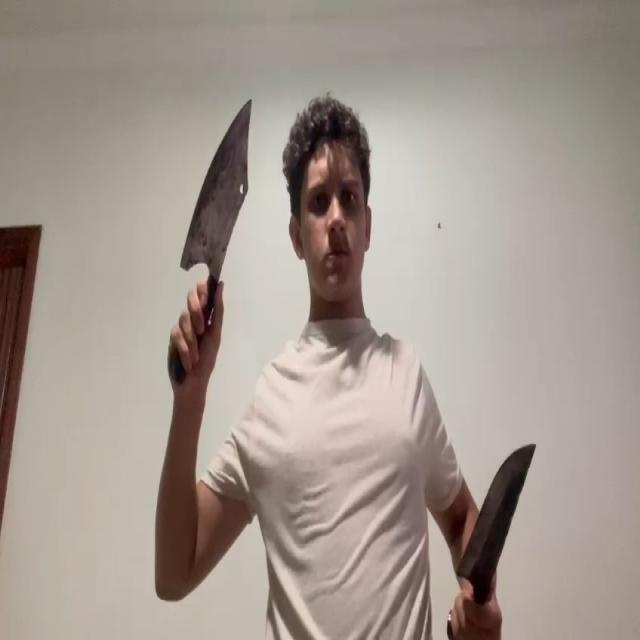knife: (181, 97, 254, 269), (457, 441, 537, 577)
